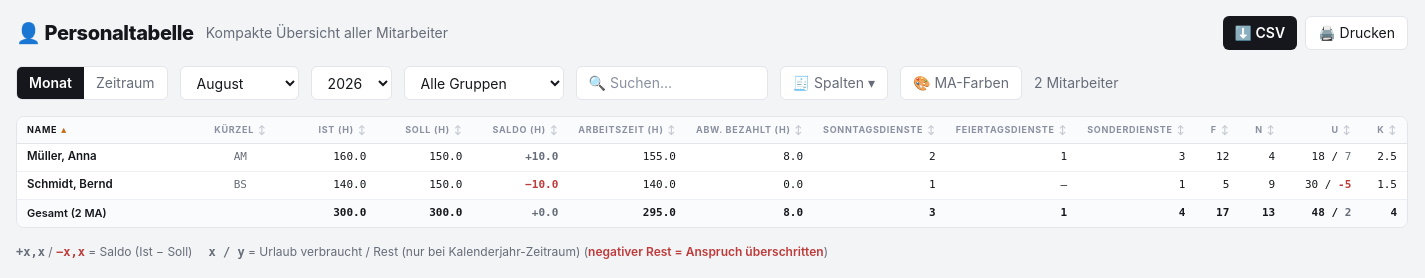
Scenario: Personaltabelle › wechselt in den freien Von/Bis-Zeitraum und lädt mit den gewählten Daten
Click the button "Zeitraum" at coordinates (125, 83), box [84,67,167,99]
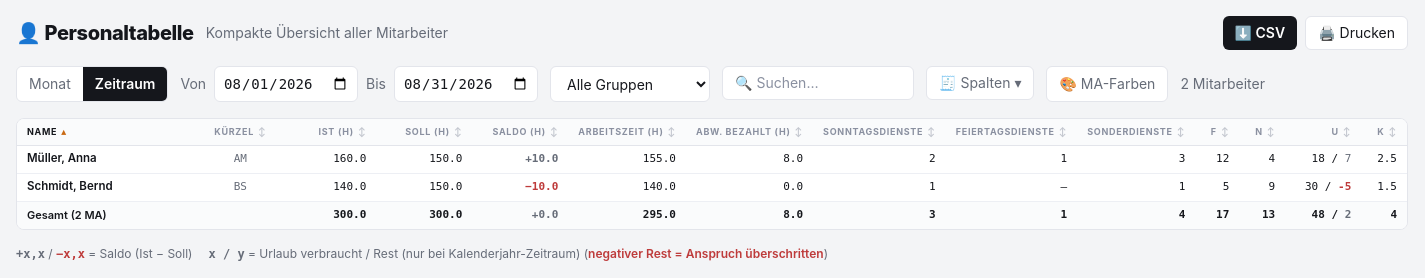
Type "2025-01-01" into the date field named "Von" at coordinates (286, 84), box [214,66,358,102]
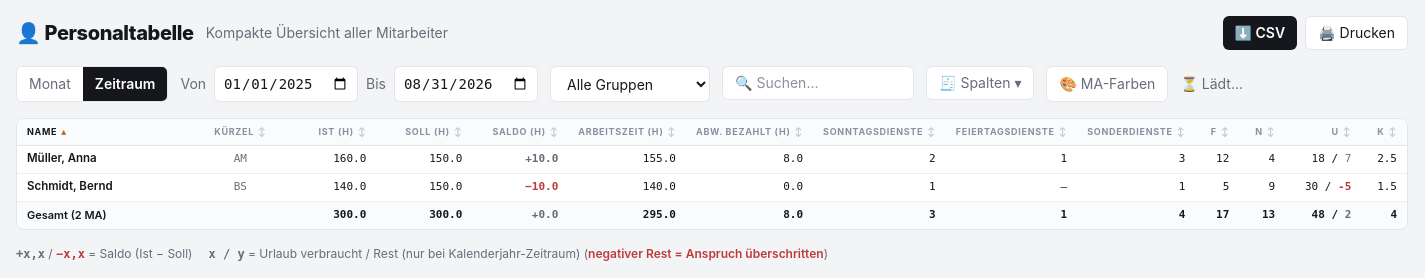
Type "2025-12-31" into the date field named "Bis" at coordinates (466, 84), box [394,66,538,102]
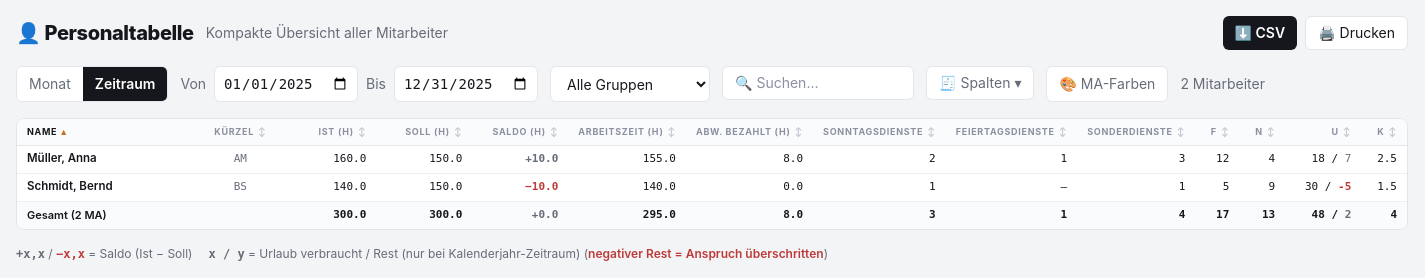
Click the button "Monat" at coordinates (50, 84), box [17,67,83,101]
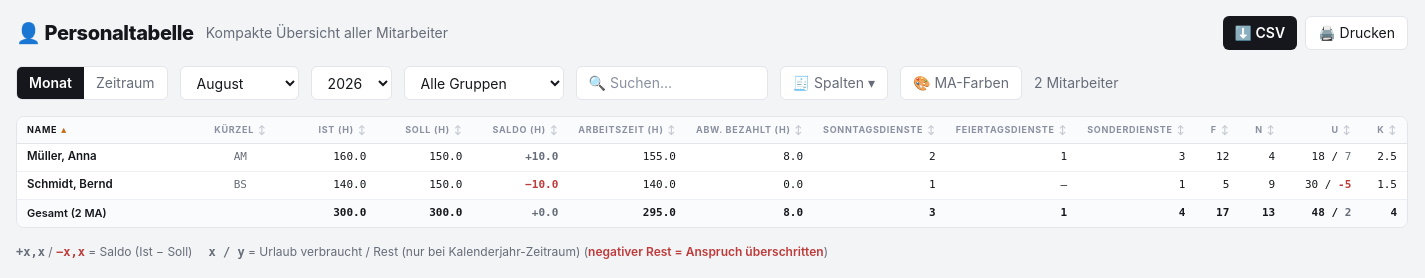
expect the label labelled "Von" is gone: met
